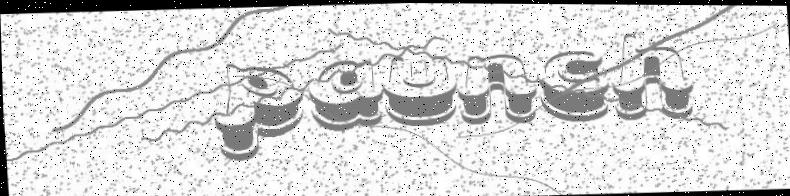a: (304, 55, 386, 129)
c: (535, 44, 613, 124)
h: (609, 27, 697, 120)
n: (458, 47, 538, 129)
p: (207, 57, 310, 162)
u: (382, 49, 460, 126)
